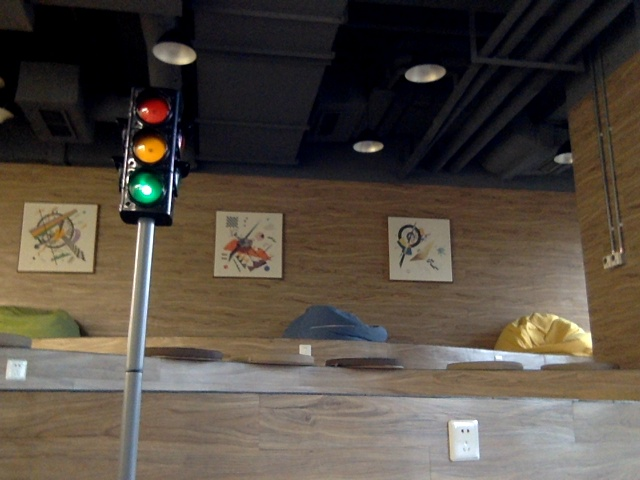green: (127, 95, 167, 212)
